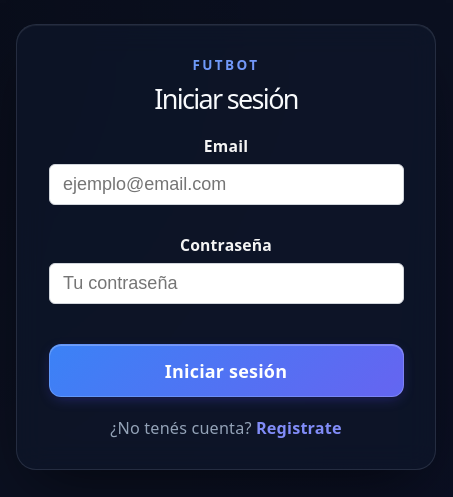
Test case: LoginPage › Validaciones del frontend › Con campos vacíos muestra los errores y no llama al backend
Click the button "Iniciar sesión".
click(226, 371)  # box [48,344,404,397]
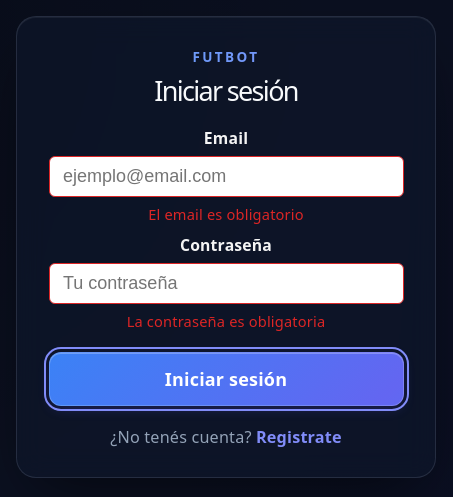
Expected: the text "El email es obligatorio" is shown, [148,204,304,224]
Expected: the text "La contraseña es obligatoria" is shown, [127,311,325,331]
